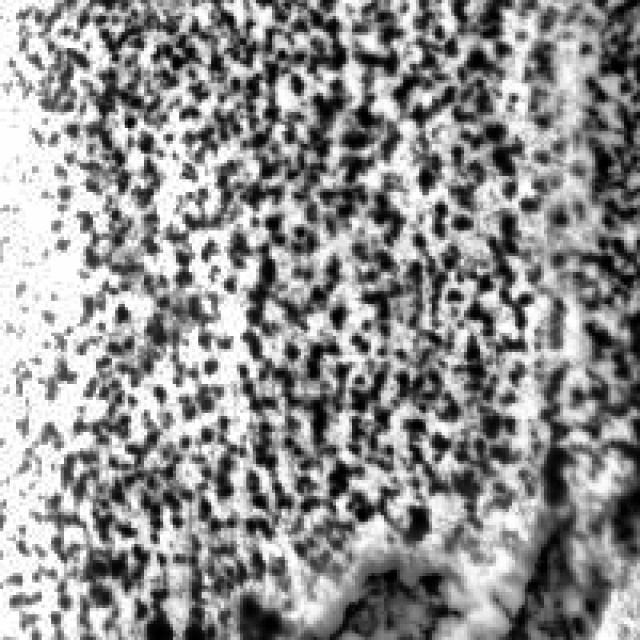Rolled_in_Scale: (9, 0, 636, 579)
Scratches: (483, 493, 624, 637), (310, 560, 468, 634)
